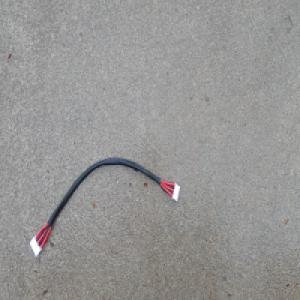Wire: (28, 156, 181, 259)
